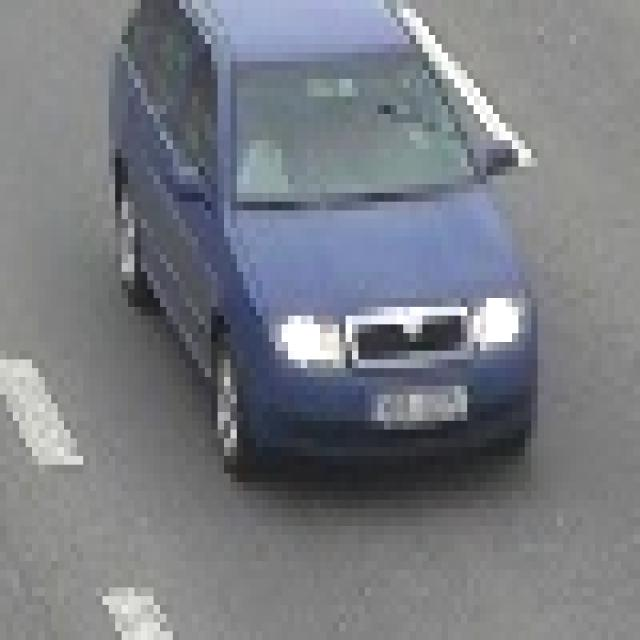blue: (108, 12, 530, 482)
